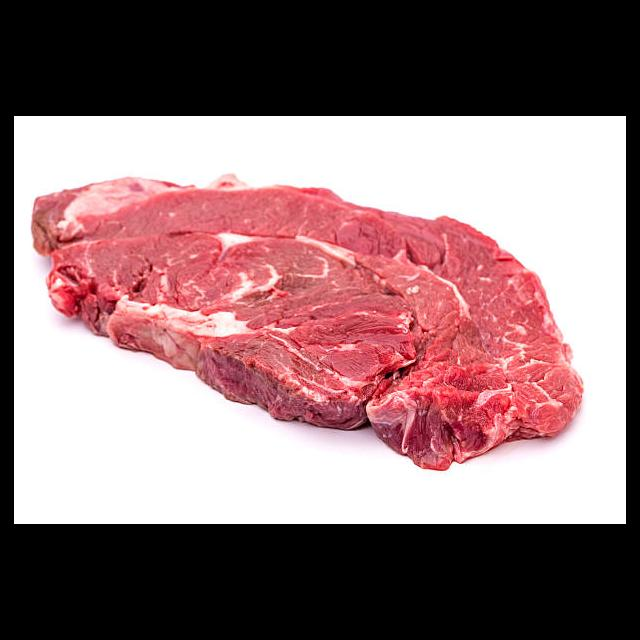beef: (33, 170, 583, 471)
